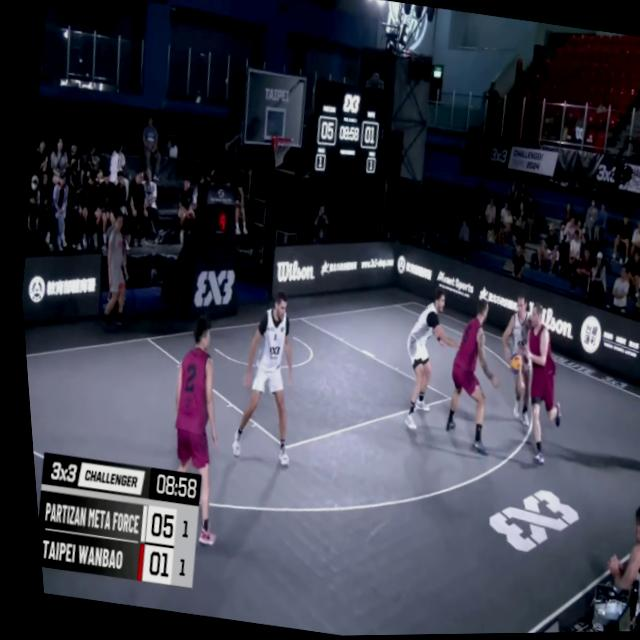ball: (500, 352, 519, 381)
hoop: (265, 133, 293, 171)
player: (140, 309, 245, 553), (213, 290, 306, 472), (428, 296, 508, 456), (499, 302, 575, 470), (384, 287, 462, 443), (481, 288, 550, 432)
